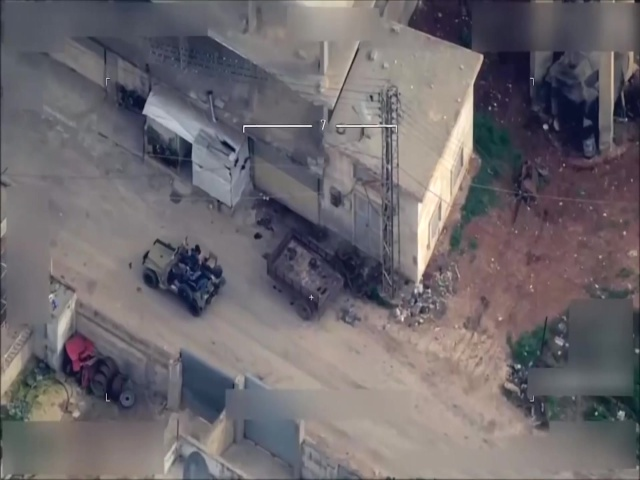vehicle: (143, 238, 227, 313)
